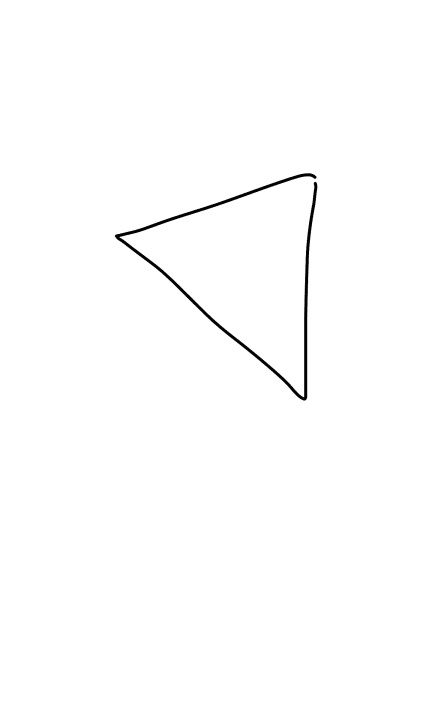Triangle: (111, 170, 331, 402)
